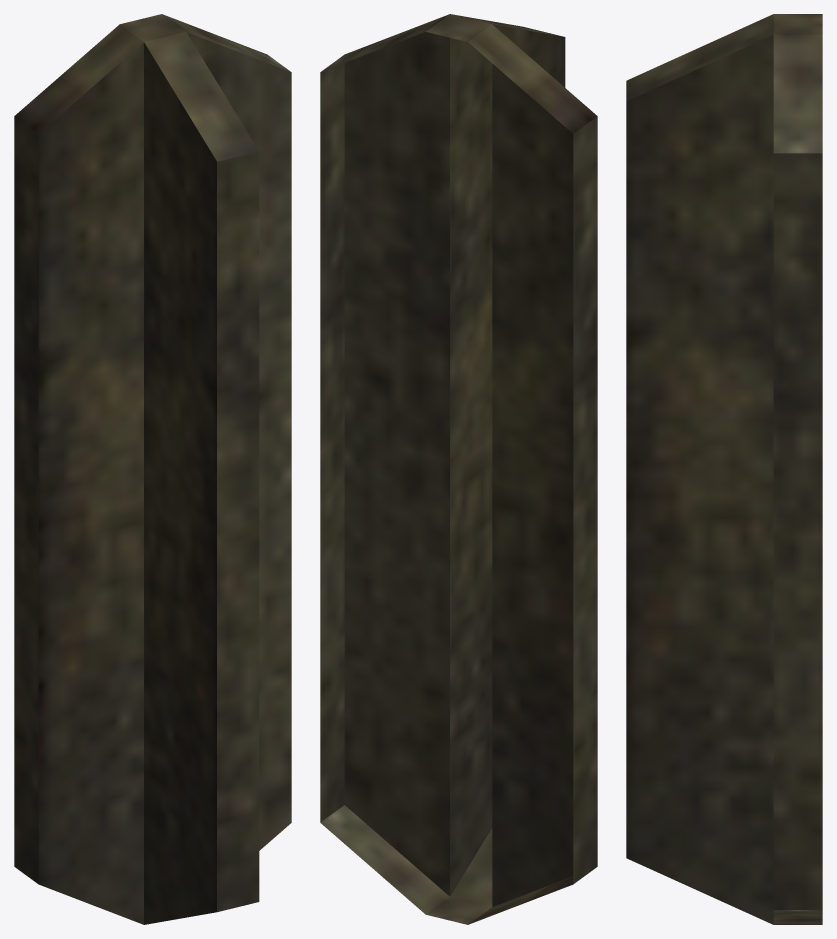
The model's file is wires_holder_hr_large_1_1.obj.
3 views of the same model, side by side, from view 1: azimuth 30°, elevation 25°; view 2: azimuth 150°, elevation 25°; view 3: azimuth 270°, elevation 25° (orthographic).
Parts seen in each view (by area): view 1: wires_holder_hr_large_1_1; view 2: wires_holder_hr_large_1_1; view 3: wires_holder_hr_large_1_1.
Boxes of the visible parts, bbox=[...] form: wires_holder_hr_large_1_1: bbox=[14, 14, 291, 924]; wires_holder_hr_large_1_1: bbox=[320, 14, 597, 924]; wires_holder_hr_large_1_1: bbox=[626, 14, 822, 924].
Bounding box in the file's own units: 0.12 × 0.4 × 0.08.
